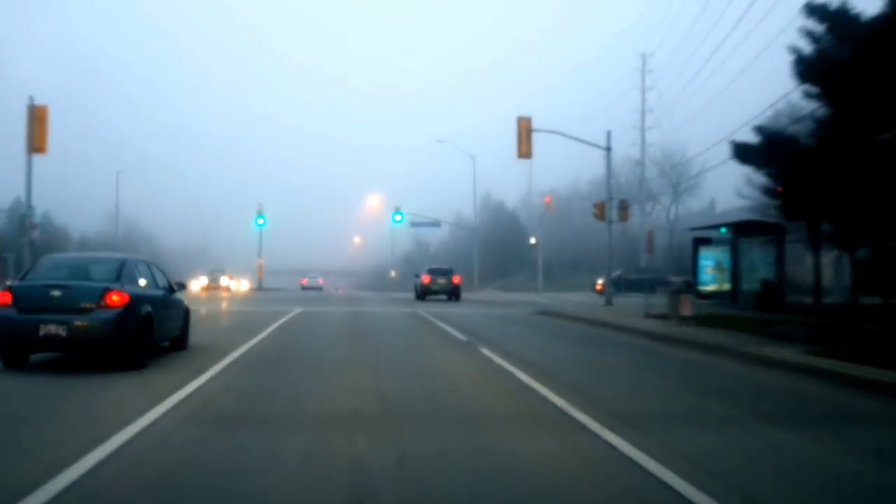car: (1, 249, 192, 374), (590, 264, 691, 299), (412, 263, 463, 304), (201, 266, 231, 291), (299, 274, 324, 291)
